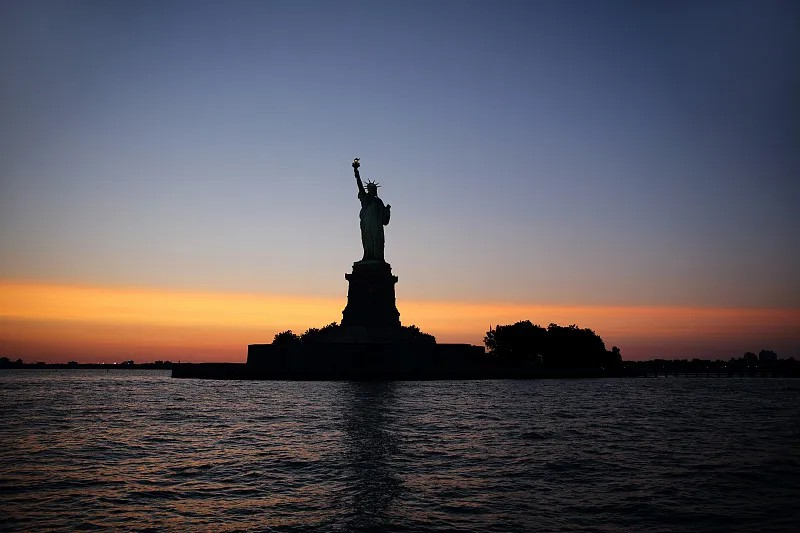SL: (340, 157, 402, 329)
